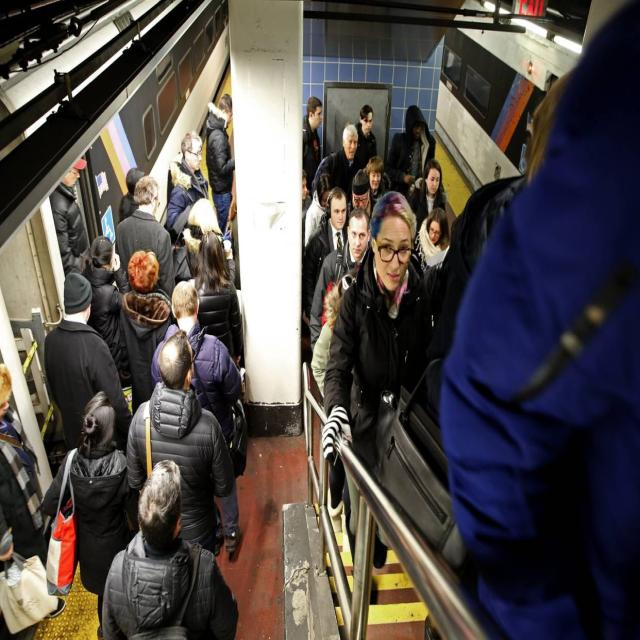body: (437, 3, 640, 638), (318, 186, 435, 612), (148, 277, 252, 561), (124, 327, 240, 558), (99, 456, 240, 640), (40, 388, 141, 640), (0, 357, 69, 639), (43, 270, 134, 458), (308, 262, 362, 556), (310, 266, 358, 538), (115, 247, 178, 417), (308, 206, 372, 357), (114, 173, 178, 323), (185, 228, 245, 369), (114, 174, 177, 301), (79, 235, 131, 382), (303, 185, 351, 325), (165, 128, 212, 250), (182, 196, 238, 292), (48, 156, 92, 277), (385, 105, 436, 202), (204, 91, 236, 238), (310, 122, 363, 205), (408, 157, 449, 244), (413, 206, 450, 273), (302, 96, 324, 202), (304, 171, 333, 249), (362, 155, 393, 215), (352, 102, 378, 170), (346, 167, 378, 221), (225, 188, 241, 291), (117, 166, 145, 224), (224, 193, 240, 292), (301, 170, 312, 250), (425, 615, 436, 636)
